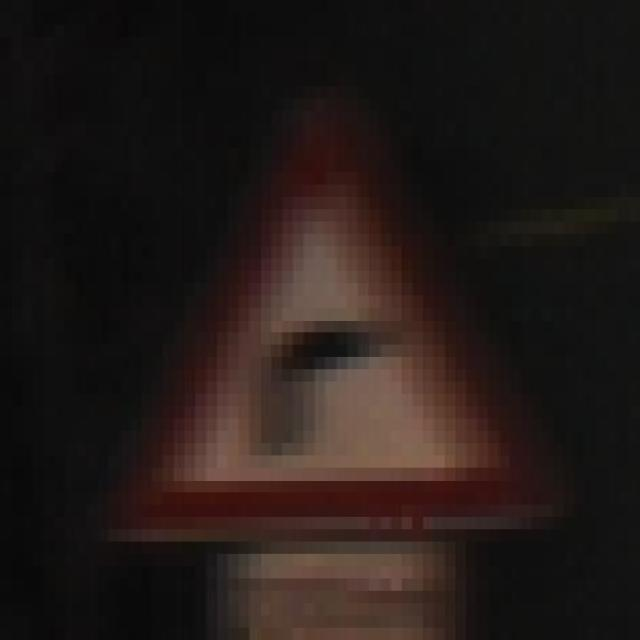Dangerous Rright Curve Ahead: (108, 86, 564, 554)
